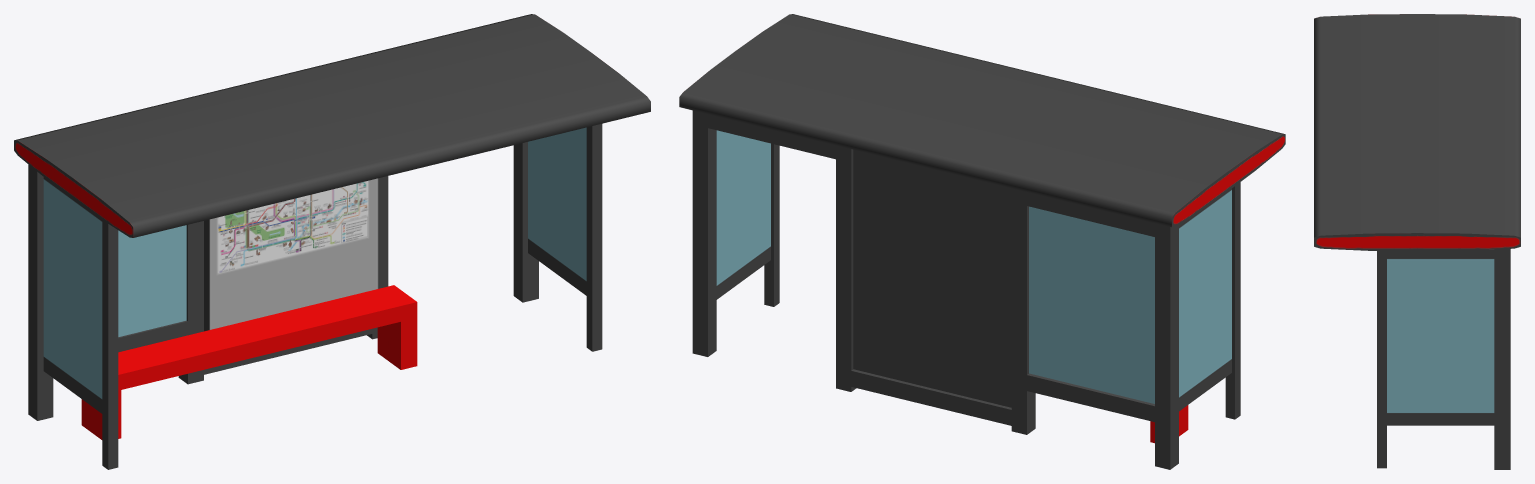
Rendered from sm_busShelter_GEO.fbx.
3 renders of one model, left to right at view 1: azimuth 30°, elevation 25°; view 2: azimuth 150°, elevation 25°; view 3: azimuth 270°, elevation 25°, orthographic. The views are drawn at different scales.
Parts seen in each view (by area): view 1: sm_busShelter_GEO; view 2: sm_busShelter_GEO; view 3: sm_busShelter_GEO.
Boxes of the visible parts, left/top/right/bottom form: sm_busShelter_GEO: left=14, top=14, right=650, bottom=469; sm_busShelter_GEO: left=679, top=14, right=1285, bottom=469; sm_busShelter_GEO: left=1314, top=14, right=1520, bottom=469.
Size of the model in its own units: 5.16 by 2.64 by 2.06.
Materials: 1 (1 with a texture image).
